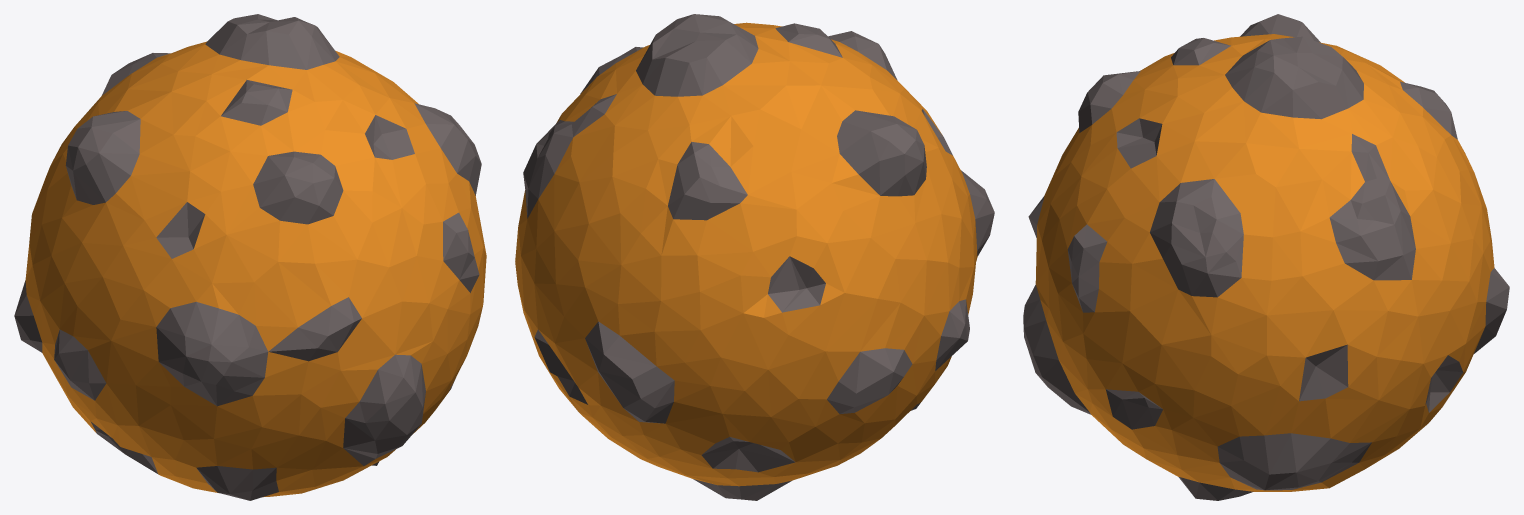
Rendered from planet_1.fbx.
3 renders of one model, left to right at view 1: azimuth 30°, elevation 25°; view 2: azimuth 150°, elevation 25°; view 3: azimuth 270°, elevation 25°, orthographic.
Visible parts, largest first — view 1: planet_1; view 2: planet_1; view 3: planet_1.
Boxes of the visible parts, bbox=[...] form: planet_1: bbox=[14, 14, 486, 500]; planet_1: bbox=[515, 14, 994, 500]; planet_1: bbox=[1023, 14, 1509, 500].
Size of the model in its own units: 622 by 599 by 641.
